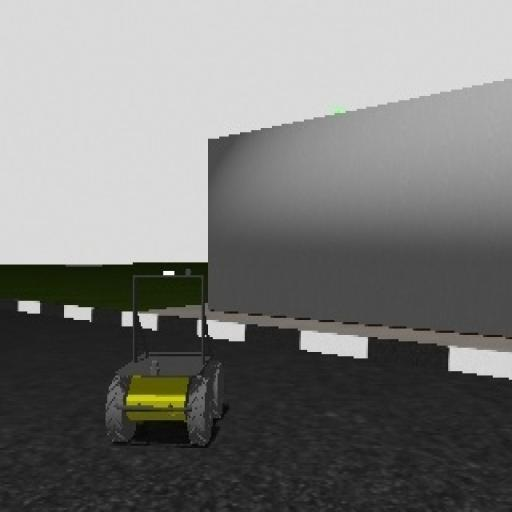huskya200: (90, 265, 234, 459)
